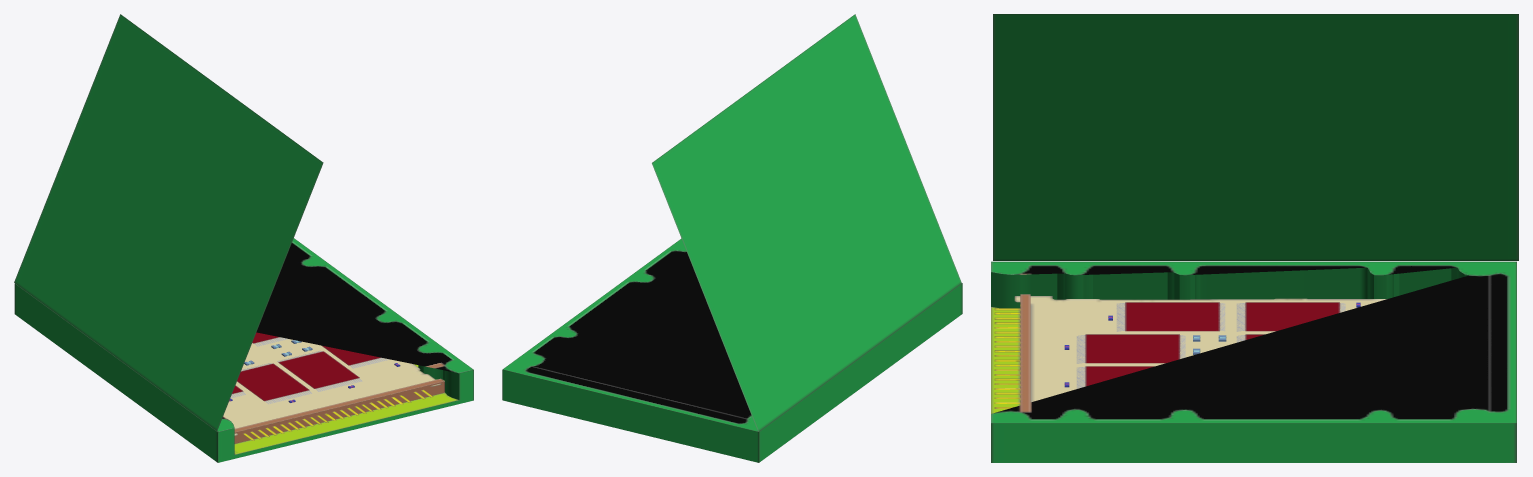
Rendered from opening_ssd.fbx.
3 views of the same model, side by side, from view 1: azimuth 30°, elevation 25°; view 2: azimuth 150°, elevation 25°; view 3: azimuth 270°, elevation 25° (orthographic). The views are drawn at different scales.
Visible parts, largest first — view 1: pPlane41, pPlane29, pPlane3, pPlane36, pPlane35, pPlane33; view 2: pPlane41, pPlane29; view 3: pPlane41, pPlane29, pPlane3, pPlane34, pPlane35, pPlane2, pPlane36.
Boxes of the visible parts, <box> form: pPlane41: <box>14,14,323,430</box>; pPlane29: <box>14,238,473,462</box>; pPlane3: <box>223,337,441,435</box>; pPlane36: <box>277,350,362,391</box>; pPlane35: <box>237,363,311,404</box>; pPlane33: <box>322,345,388,368</box>; pPlane41: <box>652,14,961,431</box>; pPlane29: <box>502,238,962,462</box>; pPlane41: <box>993,14,1518,260</box>; pPlane29: <box>991,261,1516,462</box>; pPlane3: <box>1014,296,1386,402</box>; pPlane34: <box>1116,302,1225,331</box>; pPlane35: <box>1076,334,1185,363</box>; pPlane2: <box>1236,302,1345,331</box>; pPlane36: <box>1076,366,1154,388</box>.
Size of what is drawn, in the model's own units: 8.73 by 8.92 by 12.04.
